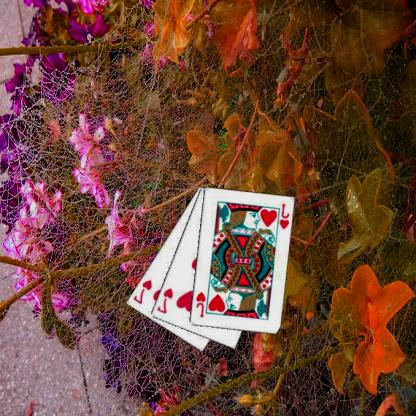7H: (132, 276, 155, 306), (156, 285, 176, 315)
JH: (195, 289, 208, 318), (279, 201, 292, 230)
